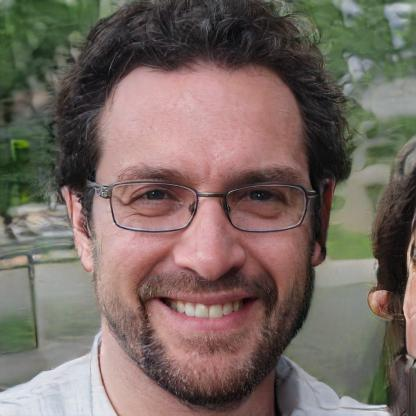glasses: (93, 176, 313, 236)
